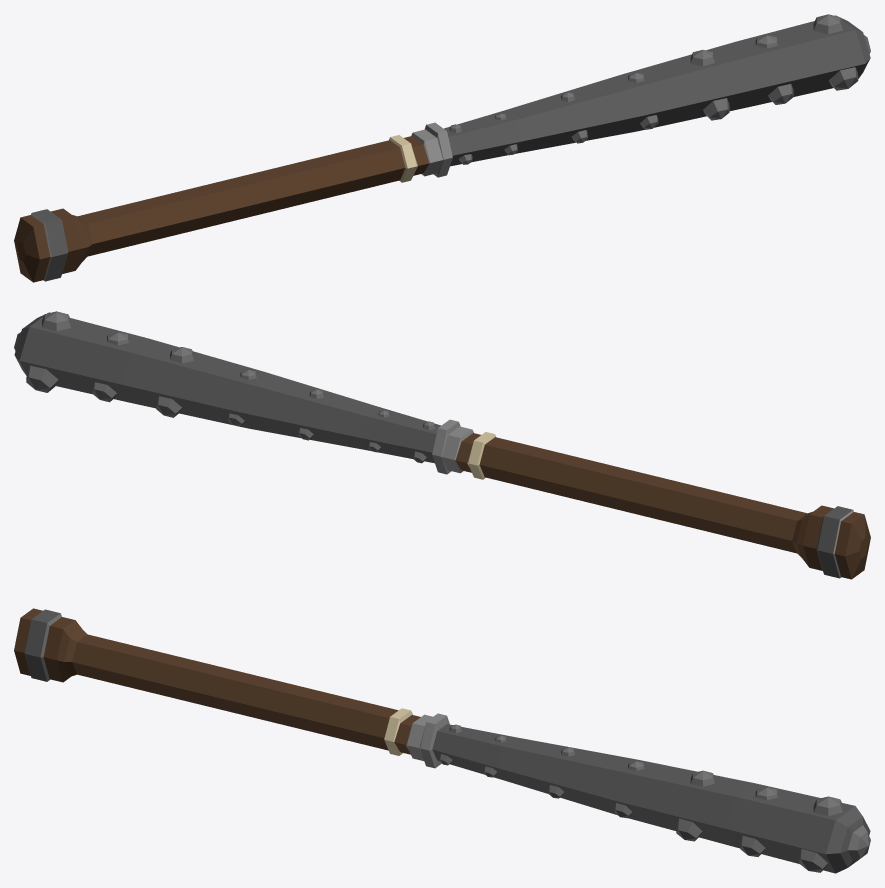
The model's file is Iron Club .fbx.
3 renders of one model, top to bottom at view 1: azimuth 30°, elevation 25°; view 2: azimuth 150°, elevation 25°; view 3: azimuth 330°, elevation 25°, orthographic.
Visible parts, largest first — view 1: Tetsubo; view 2: Tetsubo; view 3: Tetsubo.
Boxes of the visible parts, x1,y1,x2,y2 form: Tetsubo: (14,14,870,282); Tetsubo: (14,311,870,579); Tetsubo: (14,608,870,873).
Size of the model in its own units: 143 by 11.08 by 12.7.
